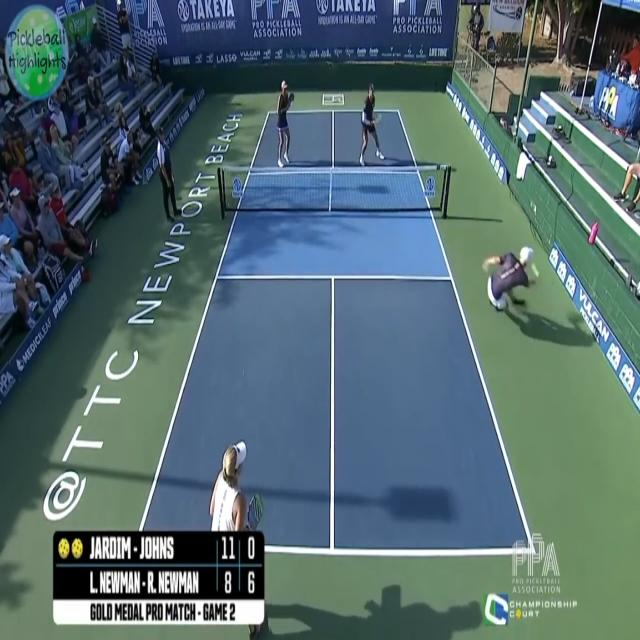Court: (136, 109, 536, 556)
